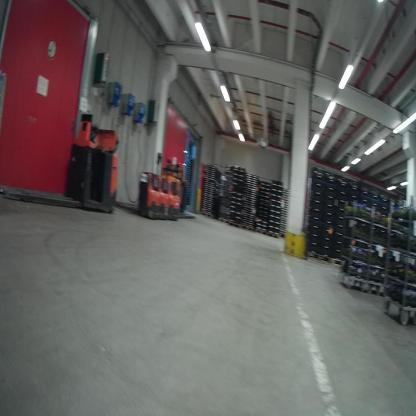pallets: (208, 218, 285, 239), (314, 249, 344, 268), (196, 207, 217, 222)
